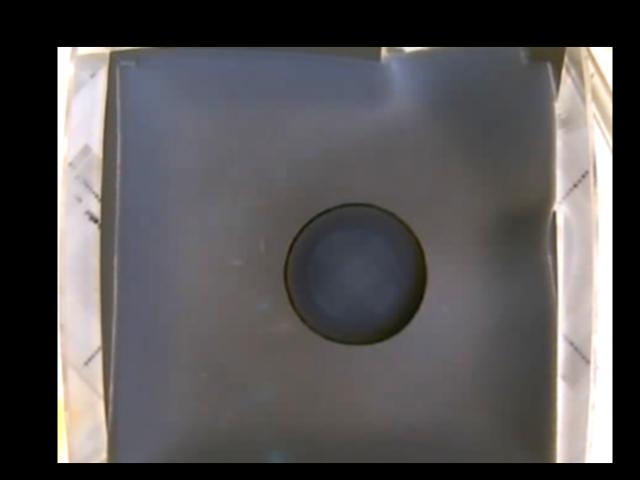Cup: (285, 201, 426, 345)
